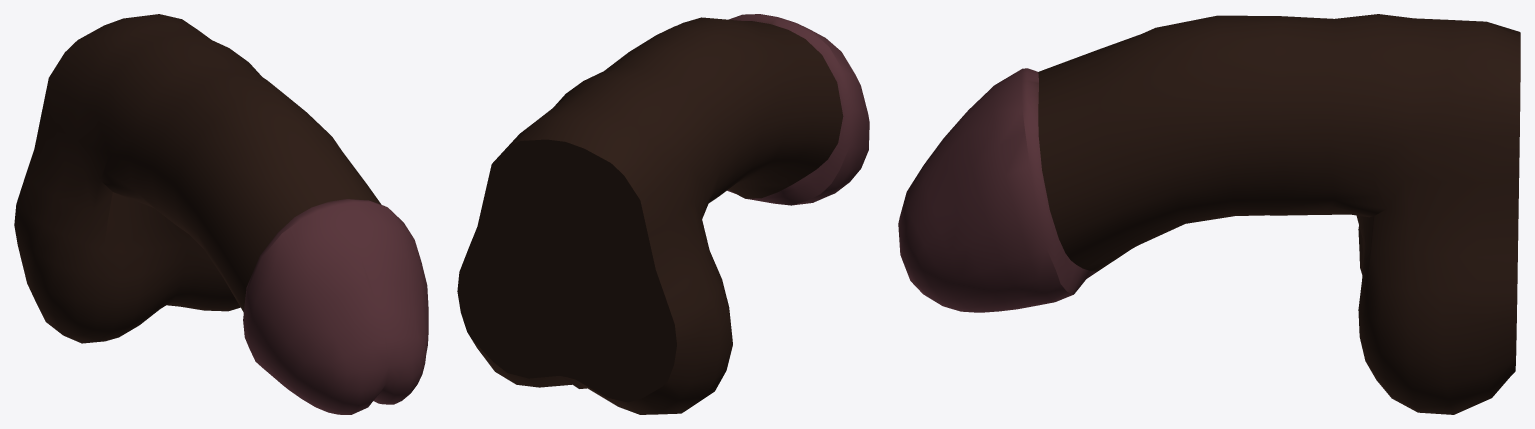
File: SmallDildo.fbx
3 renders of one model, left to right at view 1: azimuth 30°, elevation 25°; view 2: azimuth 150°, elevation 25°; view 3: azimuth 270°, elevation 25°, orthographic. The views are drawn at different scales.
Parts seen in each view (by area): view 1: SmallDildo; view 2: SmallDildo; view 3: SmallDildo.
Boxes of the visible parts, left/top/right/bottom form: SmallDildo: left=14, top=14, right=428, bottom=414; SmallDildo: left=457, top=14, right=869, bottom=414; SmallDildo: left=898, top=14, right=1520, bottom=414.
Bounding box in the file's own units: 6.49 × 7.64 × 12.3.
